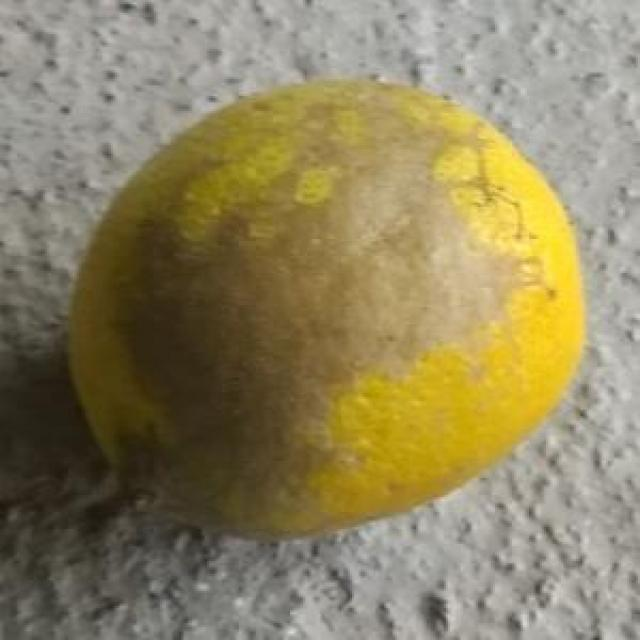lemon: (56, 79, 590, 543)
